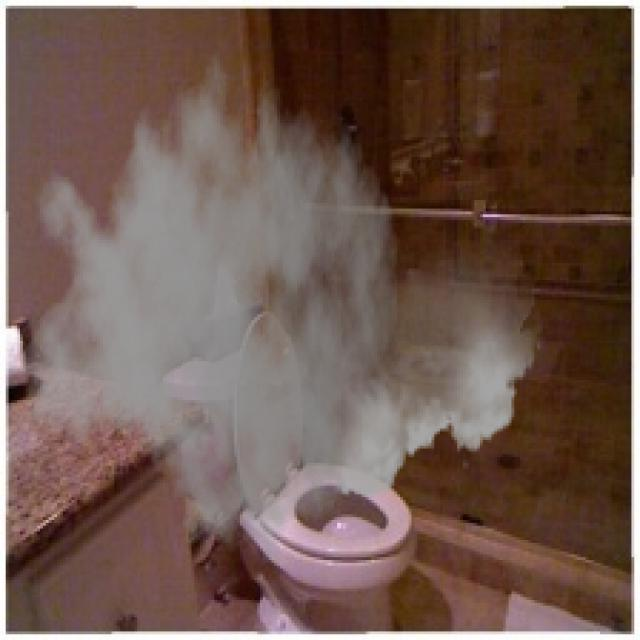Smoke: (20, 26, 543, 566)
